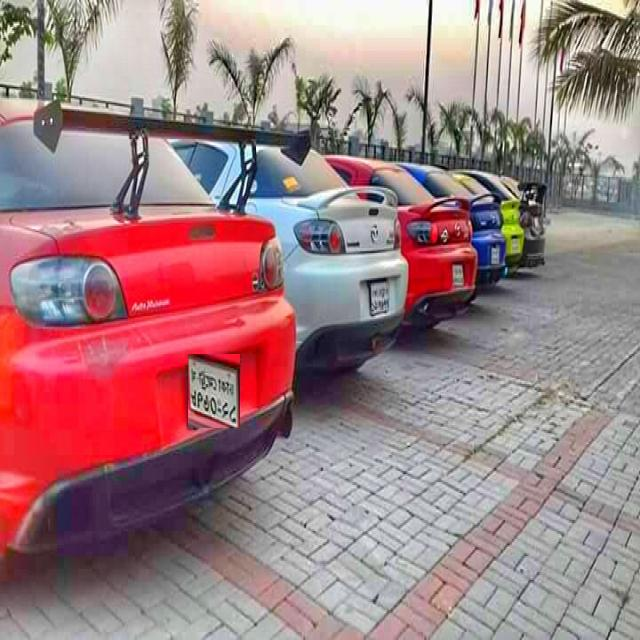numberplate: (188, 354, 240, 428), (368, 278, 389, 316), (452, 262, 466, 286)
